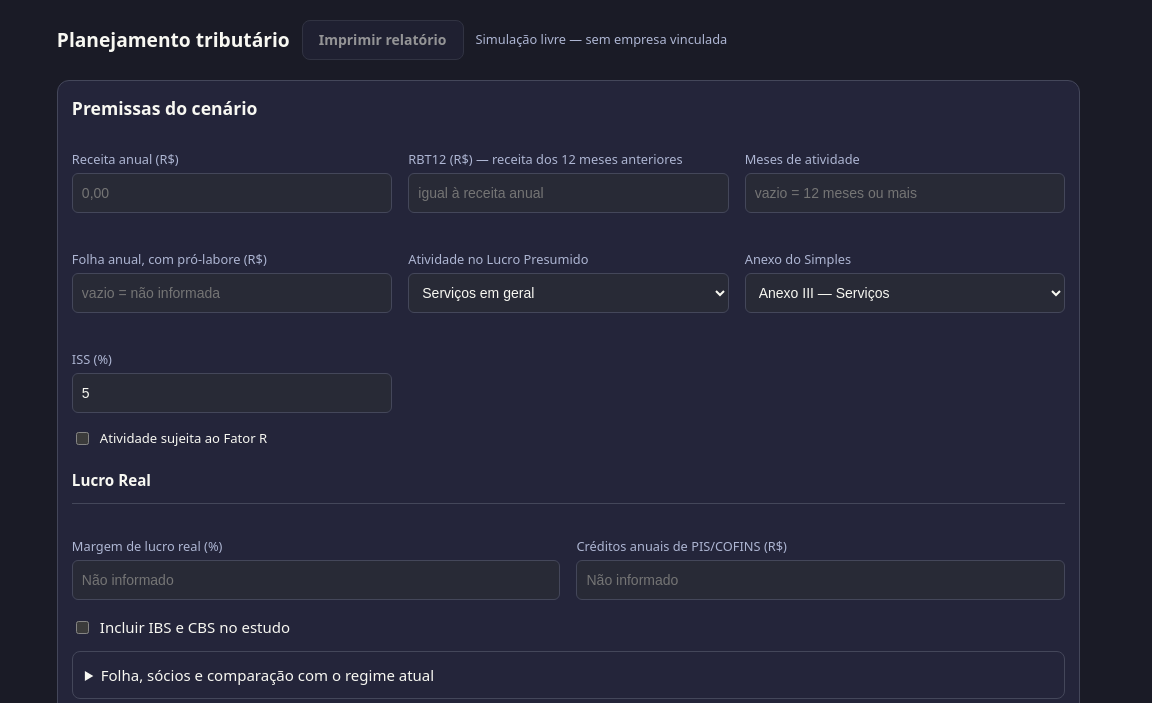
Test: trocar serviço por comércio retira ISS dos regimes e mantém a alíquota para retomar o serviço
Type "120000000" into the field labelled "Receita anual (R$)" at (232, 193), box [72,173,392,213]
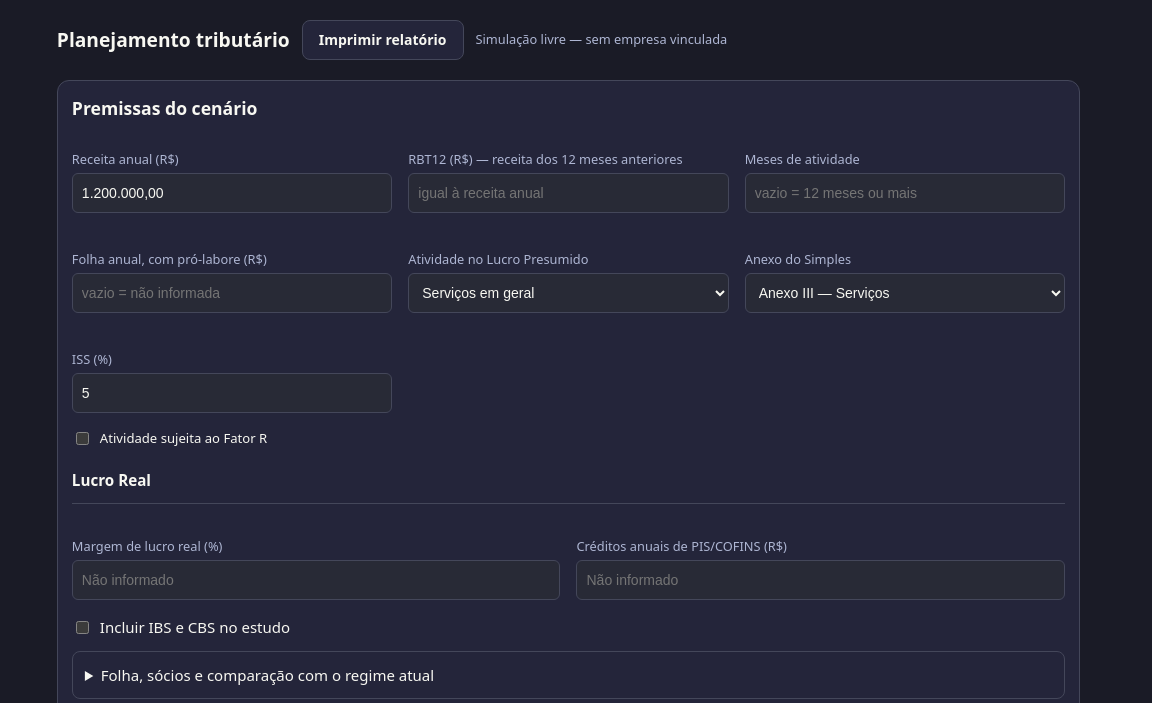
Type "20" into the field labelled "Margem de lucro real (%)" at (316, 580), box [72,560,560,600]
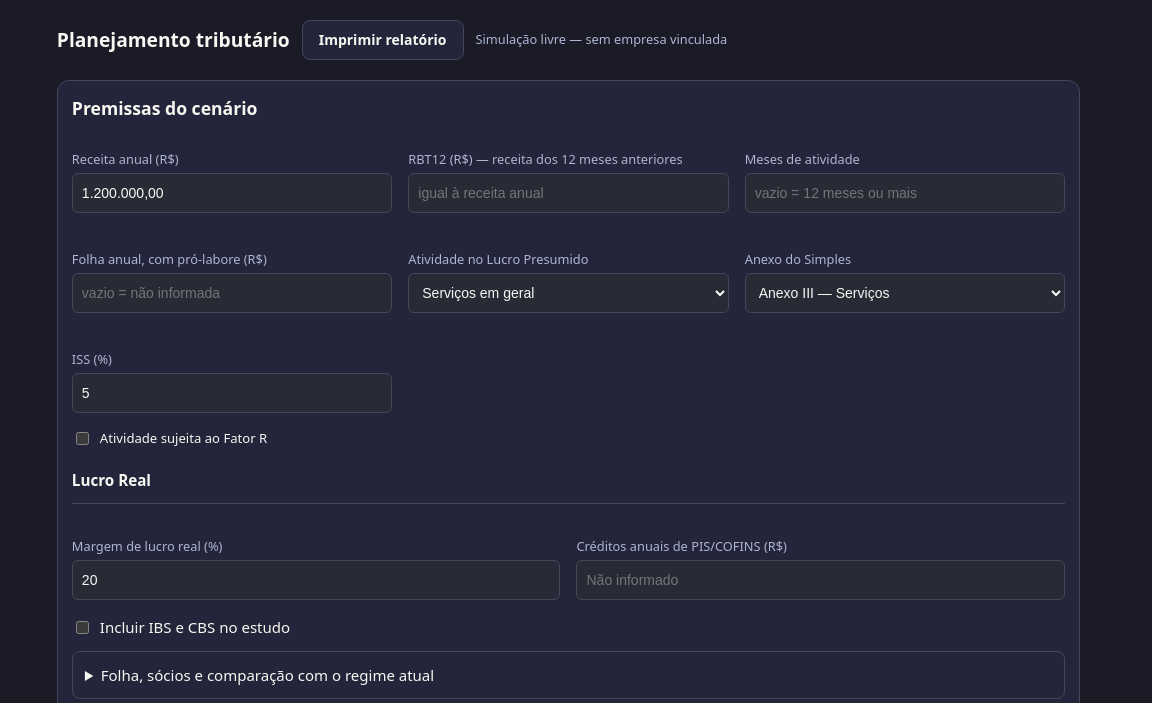
Type "0" into the field labelled "Créditos anuais de PIS/COFINS (R$)" at (821, 580), box [576,560,1065,600]
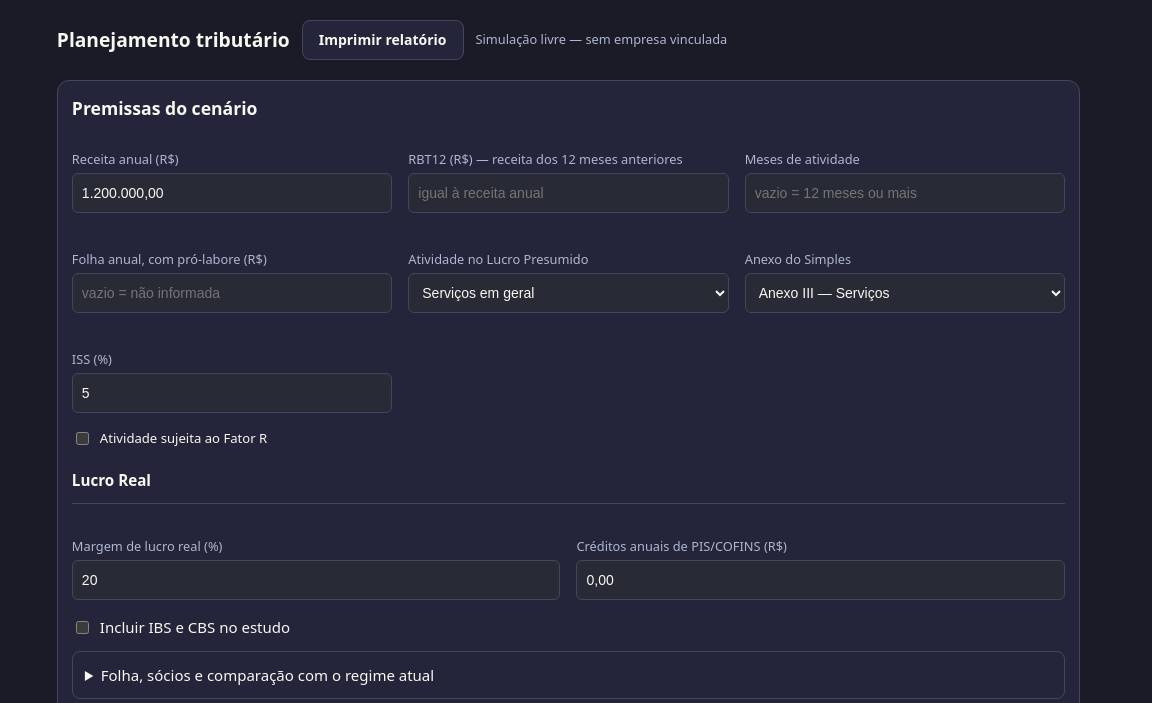
Select "Comércio / Indústria" in the dropdown labelled "Atividade no Lucro Presumido" at (568, 293), box [408,273,729,313]
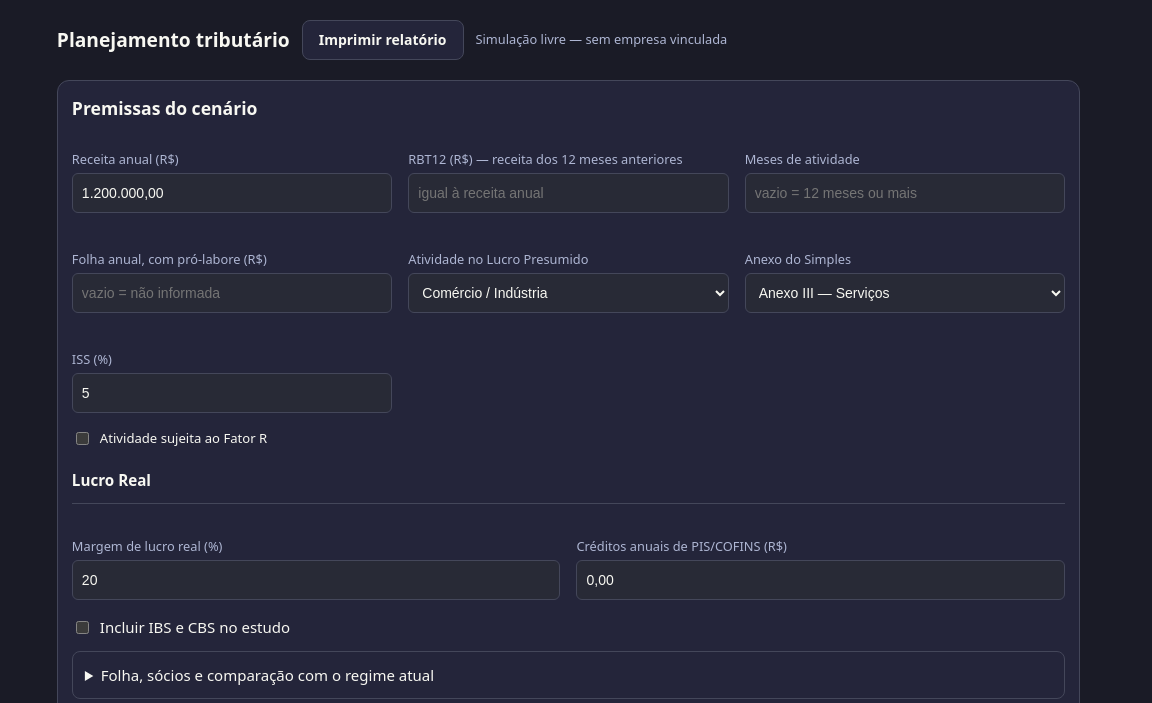
Expected: the field labelled "ISS (%)" holds "5", [72,373,392,413]
Select "Serviços em geral" in the dropdown labelled "Atividade no Lucro Presumido" at (568, 293), box [408,273,729,313]
(page scrolled)
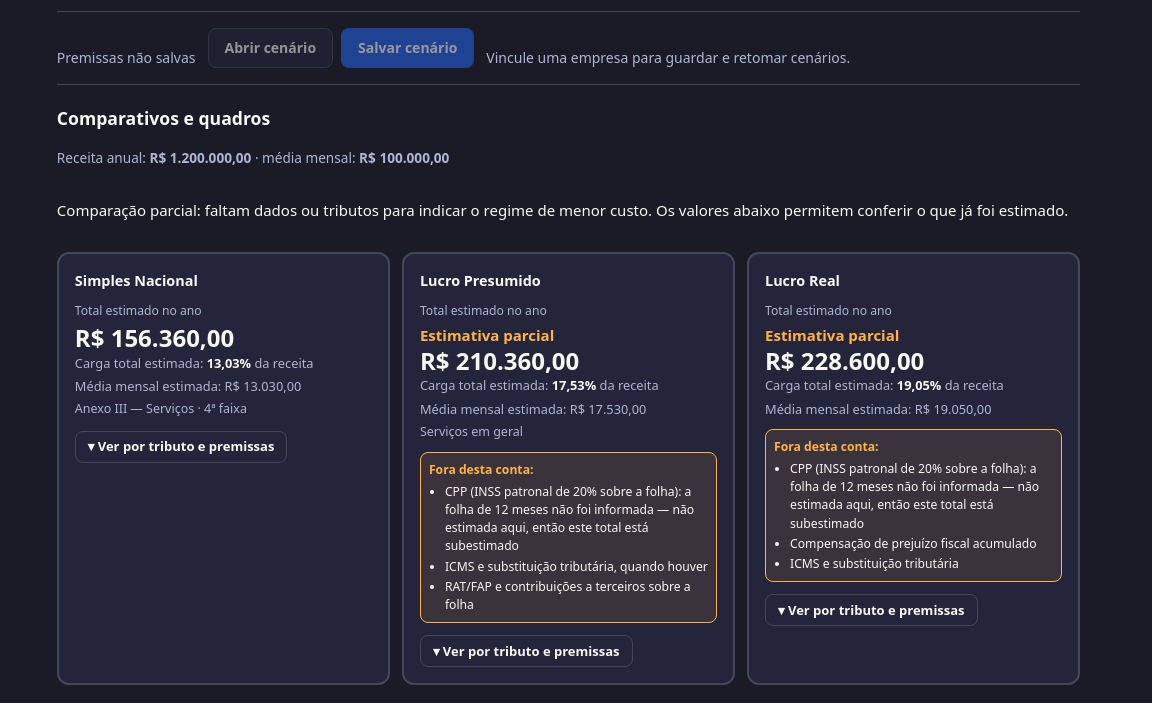
Expected: the text "R$ 210.360,00" is shown, [420,344,579,377]
Expected: the text "R$ 228.600,00" is shown, [765,344,924,377]
